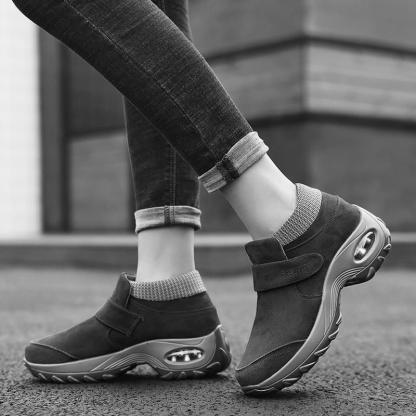ankle: (159, 284, 164, 288), (296, 218, 298, 221)
heel: (354, 208, 358, 211), (216, 323, 219, 326)
left_foot: (236, 189, 392, 397)
pinky: (44, 341, 47, 344), (245, 355, 248, 358)
right_foot: (25, 280, 232, 383)
toe: (272, 369, 277, 373), (46, 360, 50, 363)
